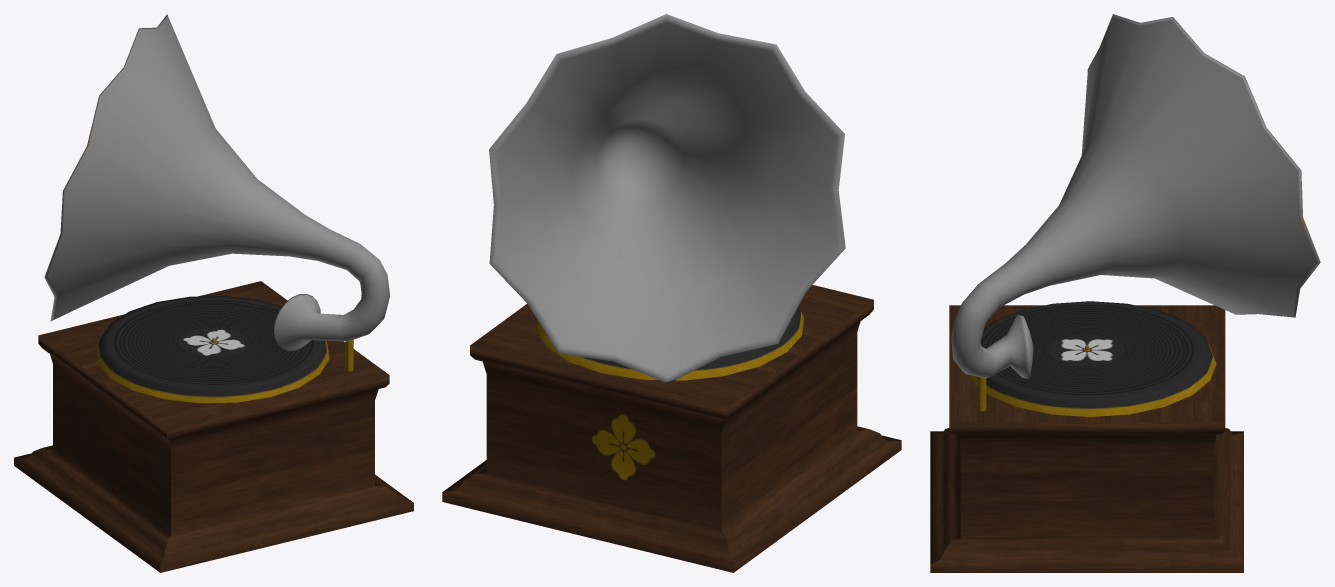
The model's file is phonograph.fbx.
3 views of the same model, side by side, from view 1: azimuth 30°, elevation 25°; view 2: azimuth 150°, elevation 25°; view 3: azimuth 270°, elevation 25° (orthographic). The views are drawn at different scales.
Parts seen in each view (by area): view 1: phonograph; view 2: phonograph; view 3: phonograph.
Boxes of the visible parts, bbox=[...] form: phonograph: bbox=[14, 14, 413, 572]; phonograph: bbox=[442, 14, 901, 572]; phonograph: bbox=[930, 14, 1320, 572].
Bounding box in the file's own units: 45.09 × 65.98 × 49.51.
